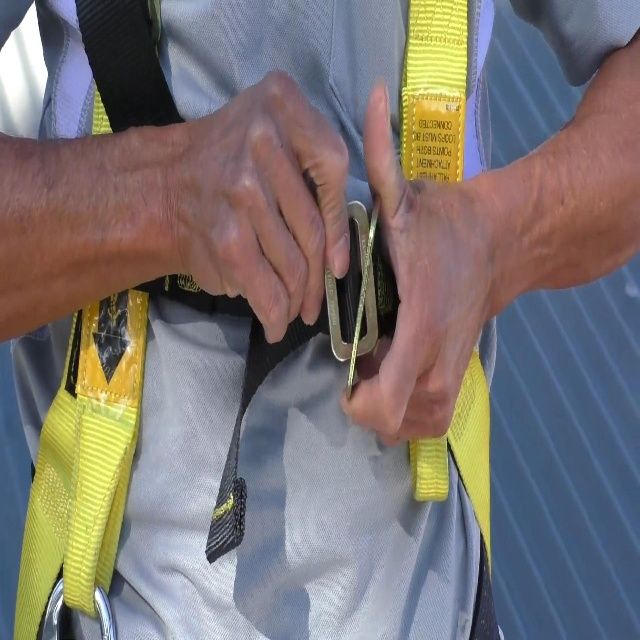Arnes_seguridad: (6, 0, 517, 640)
